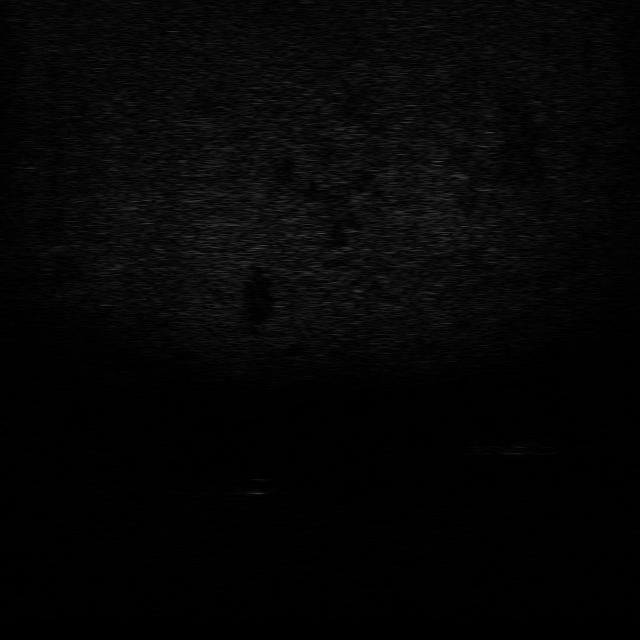ball: (229, 474, 281, 500)
human body: (458, 435, 562, 459)
